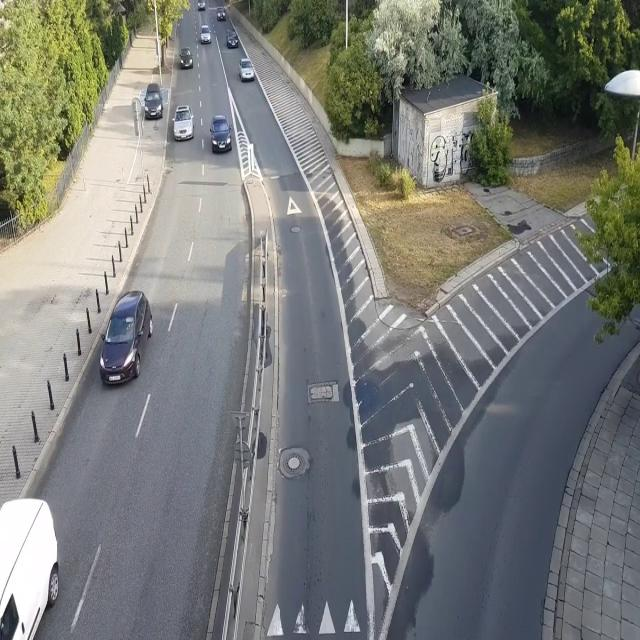car: (95, 290, 156, 386), (209, 113, 233, 156), (171, 104, 196, 142), (145, 82, 163, 120), (239, 56, 255, 82), (178, 46, 194, 70), (225, 28, 239, 50), (200, 23, 212, 46), (216, 4, 227, 23), (197, 0, 206, 14)
van: (0, 496, 60, 640)
